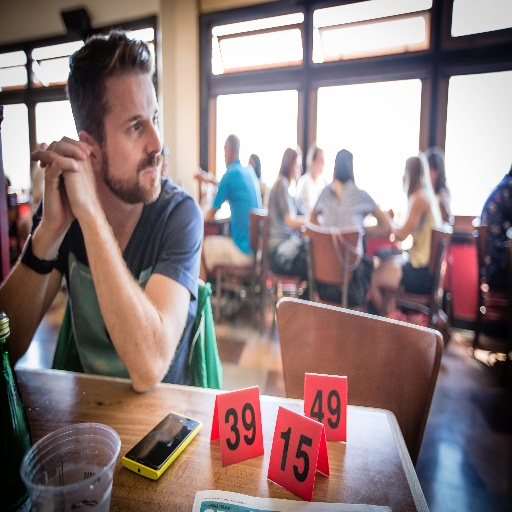hand: (28, 138, 99, 223), (40, 134, 92, 229)
